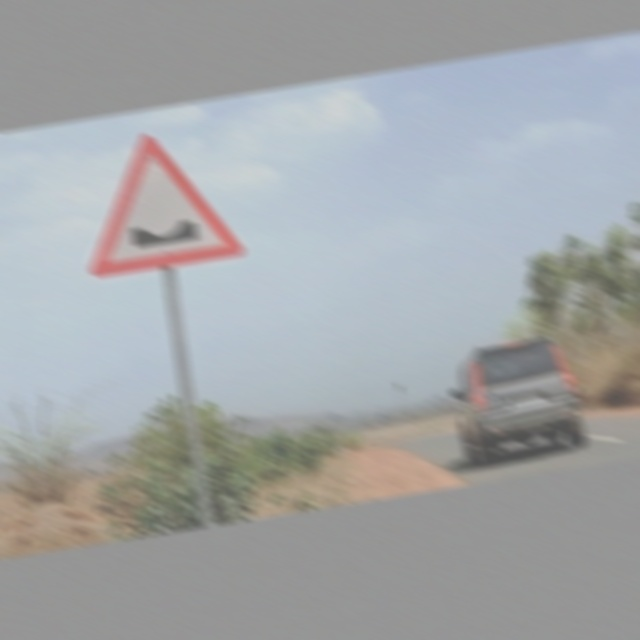Dangerous_Dip: (69, 120, 243, 280)
